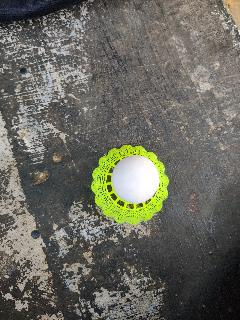shuttlecock: (88, 144, 170, 222)
